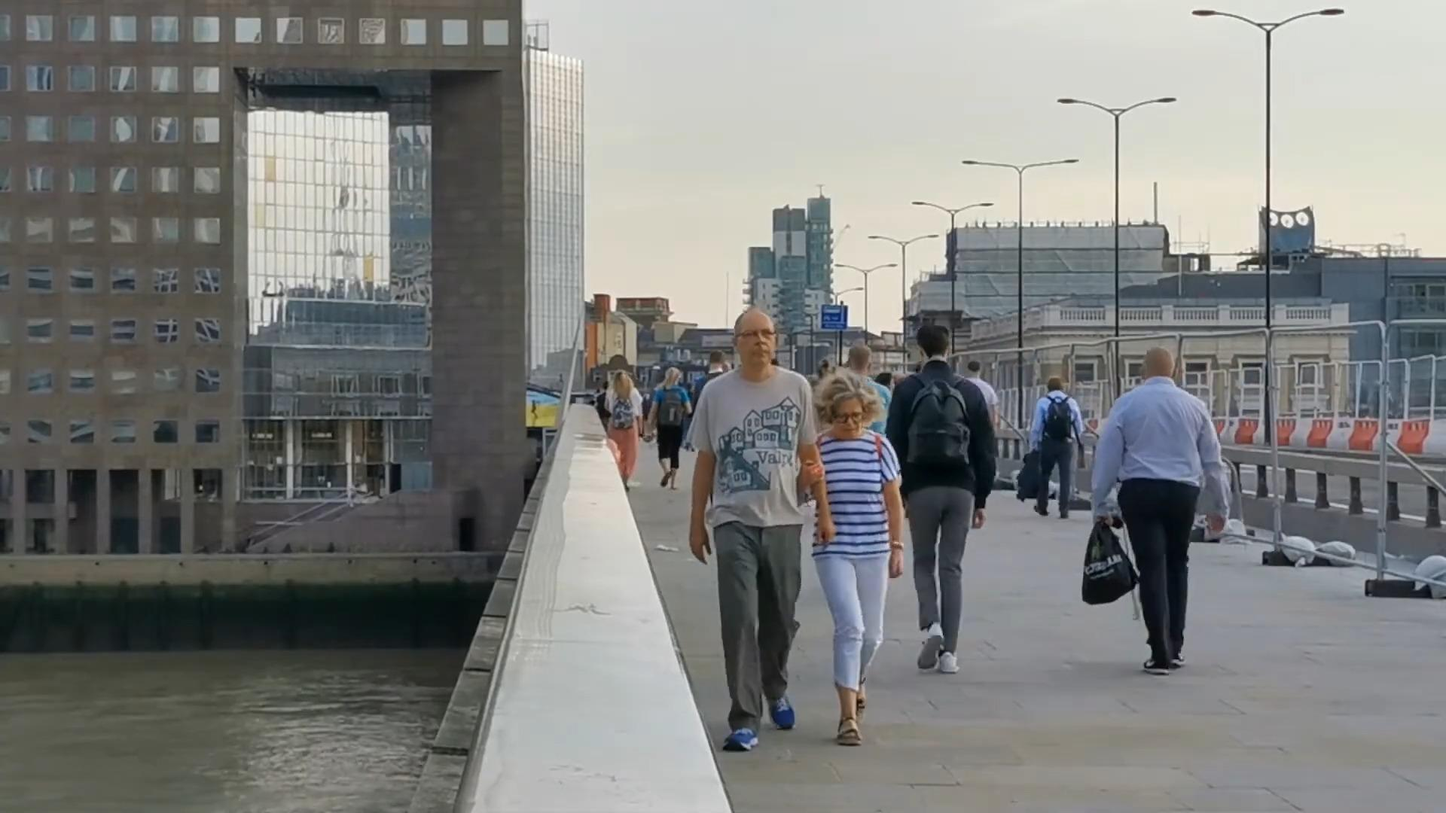no-helmet: (813, 370, 884, 440), (731, 307, 777, 368), (1140, 347, 1178, 382), (916, 325, 950, 362), (846, 343, 873, 374), (612, 369, 633, 397), (664, 366, 681, 388), (709, 350, 726, 369), (968, 361, 982, 378)
